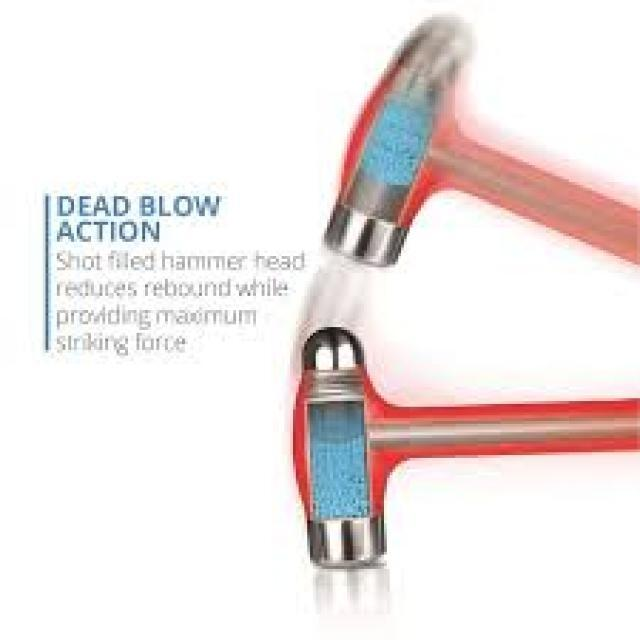hammer: (282, 316, 640, 576), (319, 15, 640, 297)
